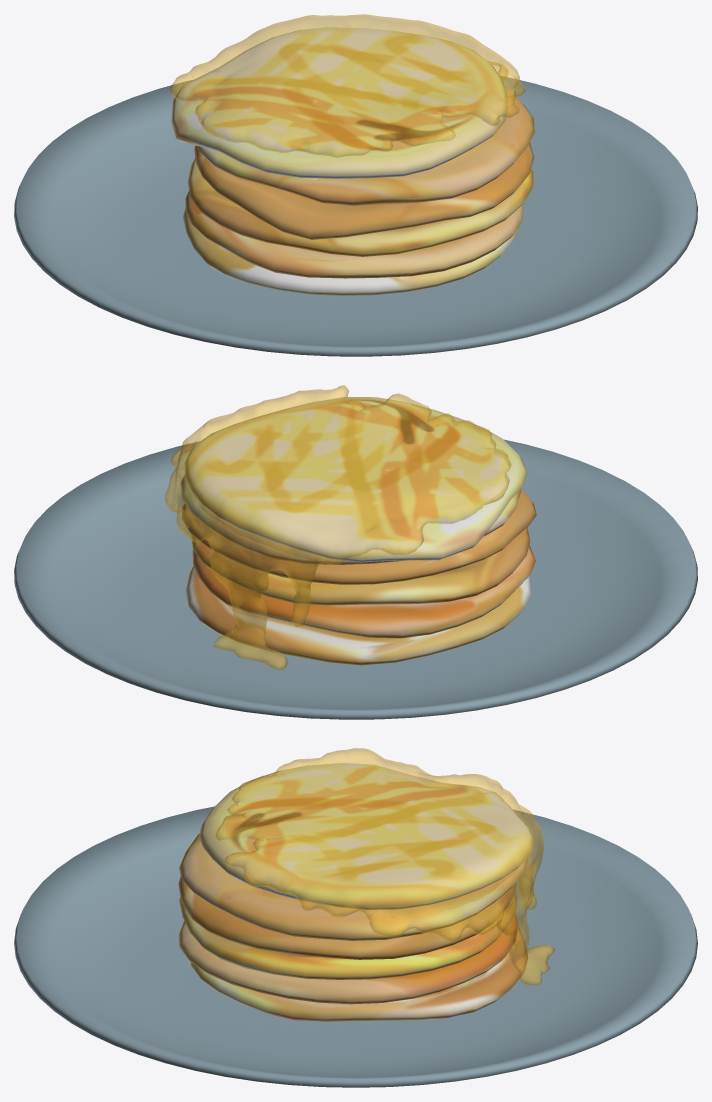
The model's file is plato8.glb.
The picture shows the model from 3 angles, top to bottom: view 1: azimuth 30°, elevation 25°; view 2: azimuth 150°, elevation 25°; view 3: azimuth 270°, elevation 25°; orthographic projection.
Visible parts, largest first — view 1: Circle.006_3, Circle.001_2, Cube_4; view 2: Circle.006_3, Circle.001_2, Cube_4; view 3: Circle.006_3, Circle.001_2, Cube_4.
Boxes of the visible parts, x1,y1,x2,y2 form: Circle.006_3: (14, 76, 697, 356); Circle.001_2: (171, 27, 534, 295); Cube_4: (169, 14, 525, 157); Circle.006_3: (14, 439, 697, 719); Circle.001_2: (180, 397, 536, 665); Cube_4: (165, 385, 511, 669); Circle.006_3: (14, 806, 697, 1087); Circle.001_2: (178, 763, 533, 1021); Cube_4: (215, 748, 554, 985).
Size of the model in its own units: 4.28 by 1.09 by 4.28.
3 materials, 1 textured.
